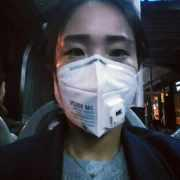OK: (50, 31, 145, 126)
